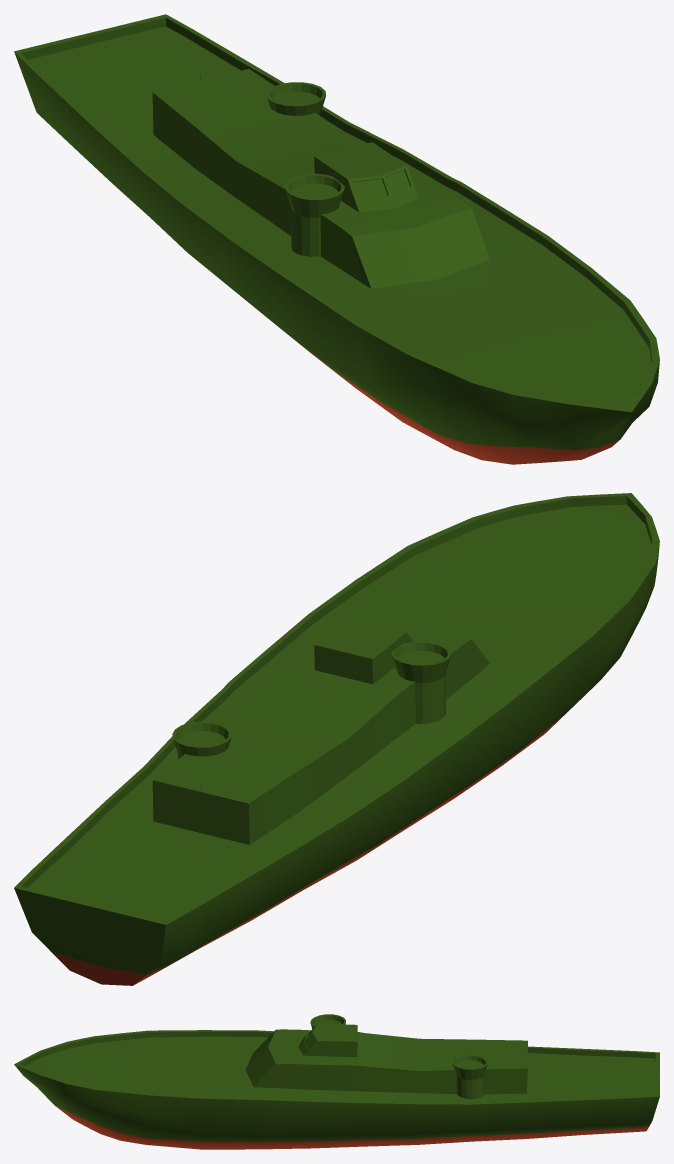
The model's file is pt_boat_elco_hull.fbx.
3 views of the same model, one above another, from view 1: azimuth 30°, elevation 25°; view 2: azimuth 150°, elevation 25°; view 3: azimuth 270°, elevation 25° (orthographic). The views are drawn at different scales.
Visible parts, largest first — view 1: pt_boat_elco_hull; view 2: pt_boat_elco_hull; view 3: pt_boat_elco_hull.
Boxes of the visible parts, left/top/right/bottom form: pt_boat_elco_hull: left=14, top=14, right=659, bottom=464; pt_boat_elco_hull: left=14, top=493, right=659, bottom=985; pt_boat_elco_hull: left=14, top=1014, right=659, bottom=1149.
Size of the model in its own units: 609 by 410 by 2389.
1 material, 1 textured.
